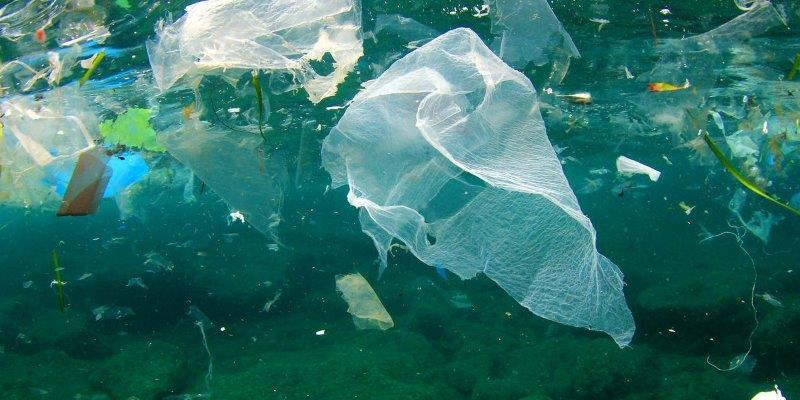plastic: (323, 21, 638, 345), (138, 0, 365, 89)
